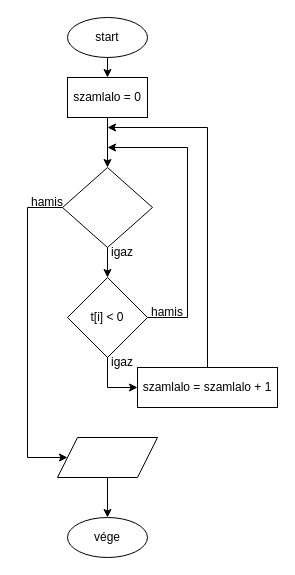
Some shapes in this 295 by 575 pixel diagram are drawn without their labels. The centre of each missing label's shape, as x and y in pixels:
"i = 0 .. n -1" belongs at pixel 107 207.
"Ki: szamlalo" belongs at pixel 107 457.
